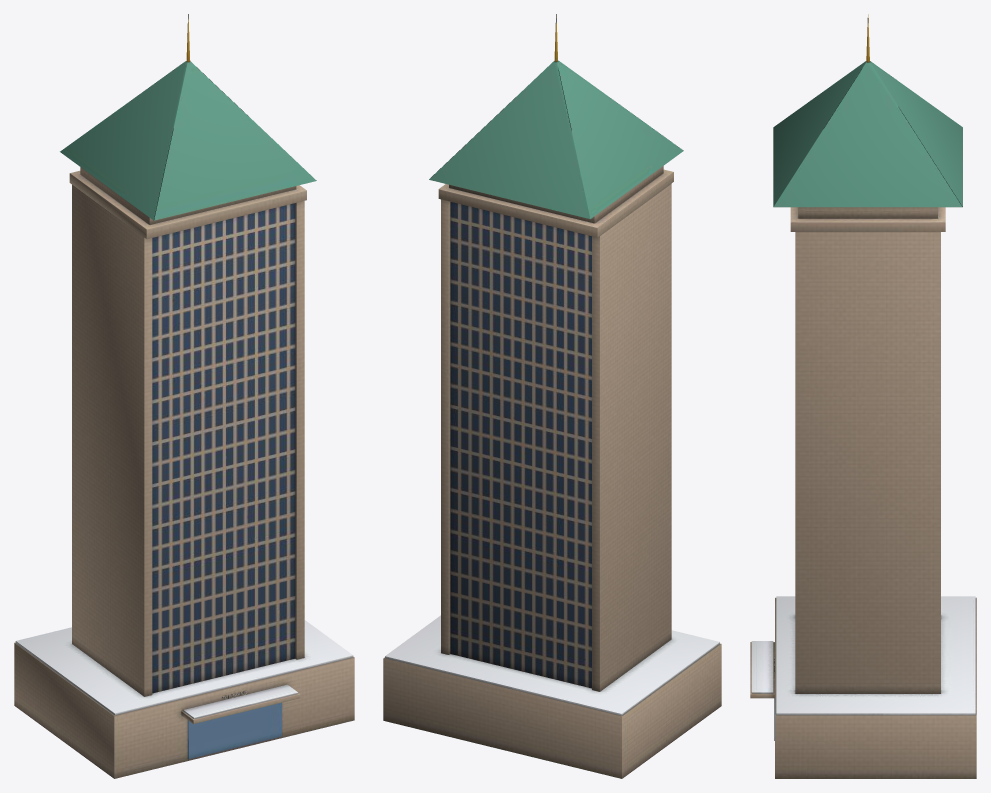
Rendered from torre_801.glb.
The picture shows the model from 3 angles, left to right: view 1: azimuth 30°, elevation 25°; view 2: azimuth 150°, elevation 25°; view 3: azimuth 270°, elevation 25°; orthographic projection.
Visible parts, largest first — view 1: torre_801; view 2: torre_801; view 3: torre_801.
Part boxes in pixels (bbox=[...]): torre_801: bbox=[14, 14, 354, 778]; torre_801: bbox=[383, 14, 721, 778]; torre_801: bbox=[750, 14, 976, 778].
Size of the model in its own units: 36 by 100 by 29.2.
Materials: 1 (1 with a texture image).
